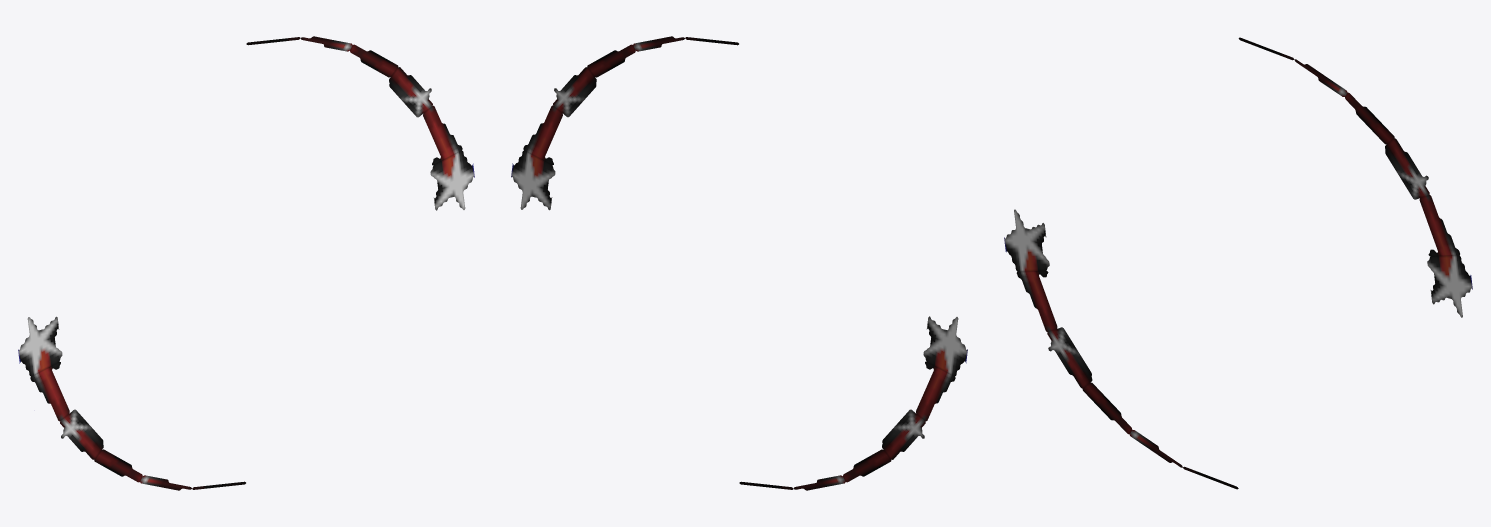
3 views of the same model, side by side, from view 1: azimuth 30°, elevation 25°; view 2: azimuth 150°, elevation 25°; view 3: azimuth 330°, elevation 25° (orthographic). The views are drawn at different scales.
Parts seen in each view (by area): view 1: T1L2M007_41; view 2: T1L2M007_41; view 3: T1L2M007_41.
Boxes of the visible parts, bbox=[...] form: T1L2M007_41: bbox=[18, 36, 474, 490]; T1L2M007_41: bbox=[511, 36, 967, 490]; T1L2M007_41: bbox=[1004, 37, 1472, 489].
Size of the model in its own units: 2.06 by 2.06 by 0.000977.
Materials: 1 (1 with a texture image).
